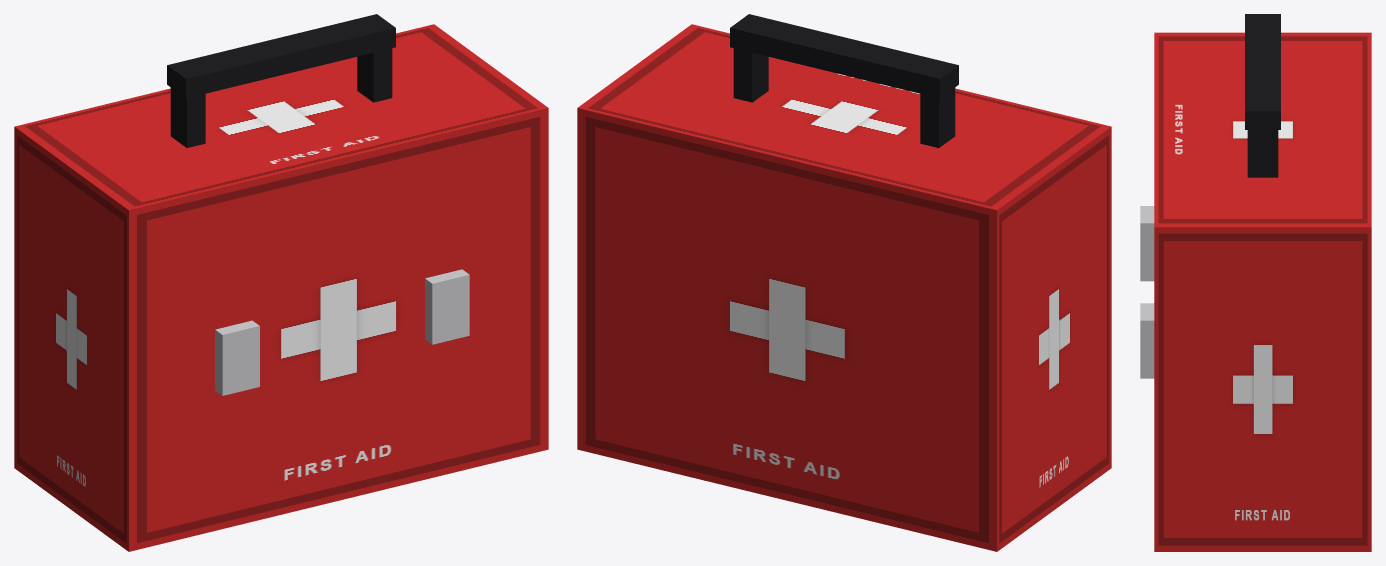
Rendered from kit.glb.
3 renders of one model, left to right at view 1: azimuth 30°, elevation 25°; view 2: azimuth 150°, elevation 25°; view 3: azimuth 270°, elevation 25°, orthographic. The views are drawn at different scales.
Bounding box in the file's own units: 1.8 × 1.69 × 0.905.
3 materials, 1 textured.
